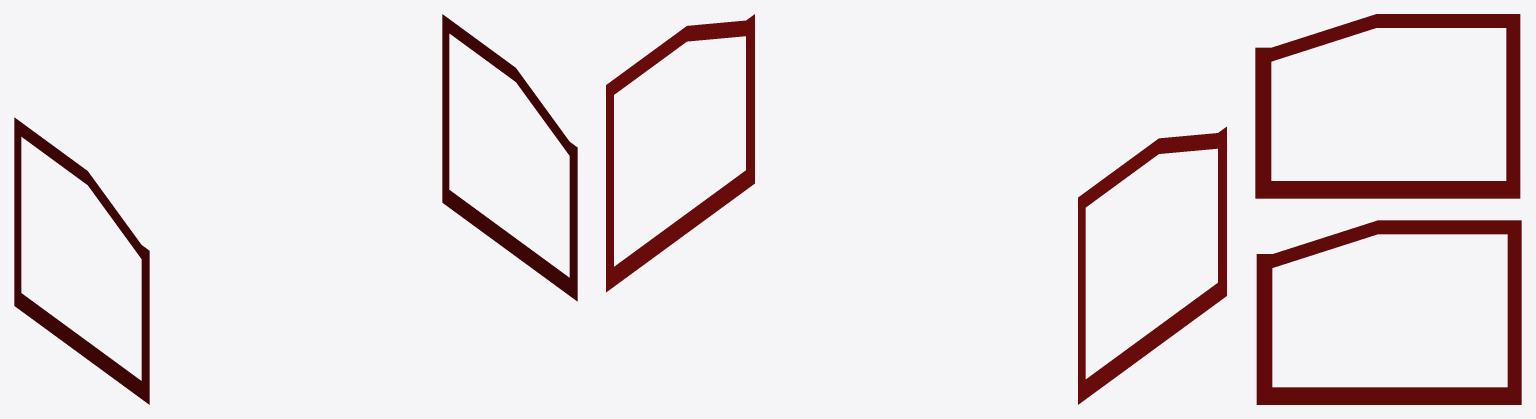
Rendered from bunker-lining.dae.
The picture shows the model from 3 angles, left to right: view 1: azimuth 30°, elevation 25°; view 2: azimuth 150°, elevation 25°; view 3: azimuth 270°, elevation 25°; orthographic projection. The views are drawn at different scales.
Visible parts, largest first — view 1: Plane_002, Plane_007; view 2: Plane_002, Plane_007; view 3: Plane_002, Plane_007.
Boxes of the visible parts, left/top/right/bottom form: Plane_002: left=442, top=14, right=577, bottom=301; Plane_007: left=14, top=117, right=149, bottom=404; Plane_002: left=606, top=14, right=754, bottom=292; Plane_007: left=1078, top=126, right=1226, bottom=404; Plane_002: left=1256, top=220, right=1521, bottom=404; Plane_007: left=1255, top=14, right=1520, bottom=198.
Bounding box in the file's own units: 1.89 × 1.04 × 0.801.
